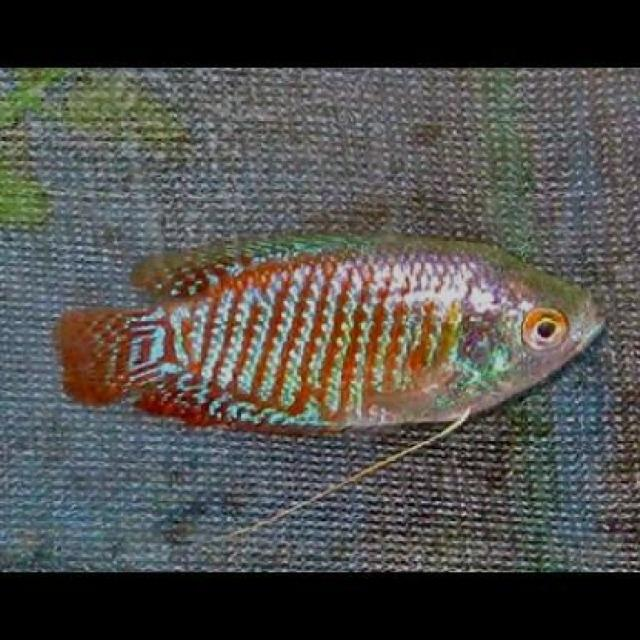Gourami: (50, 226, 615, 442)
